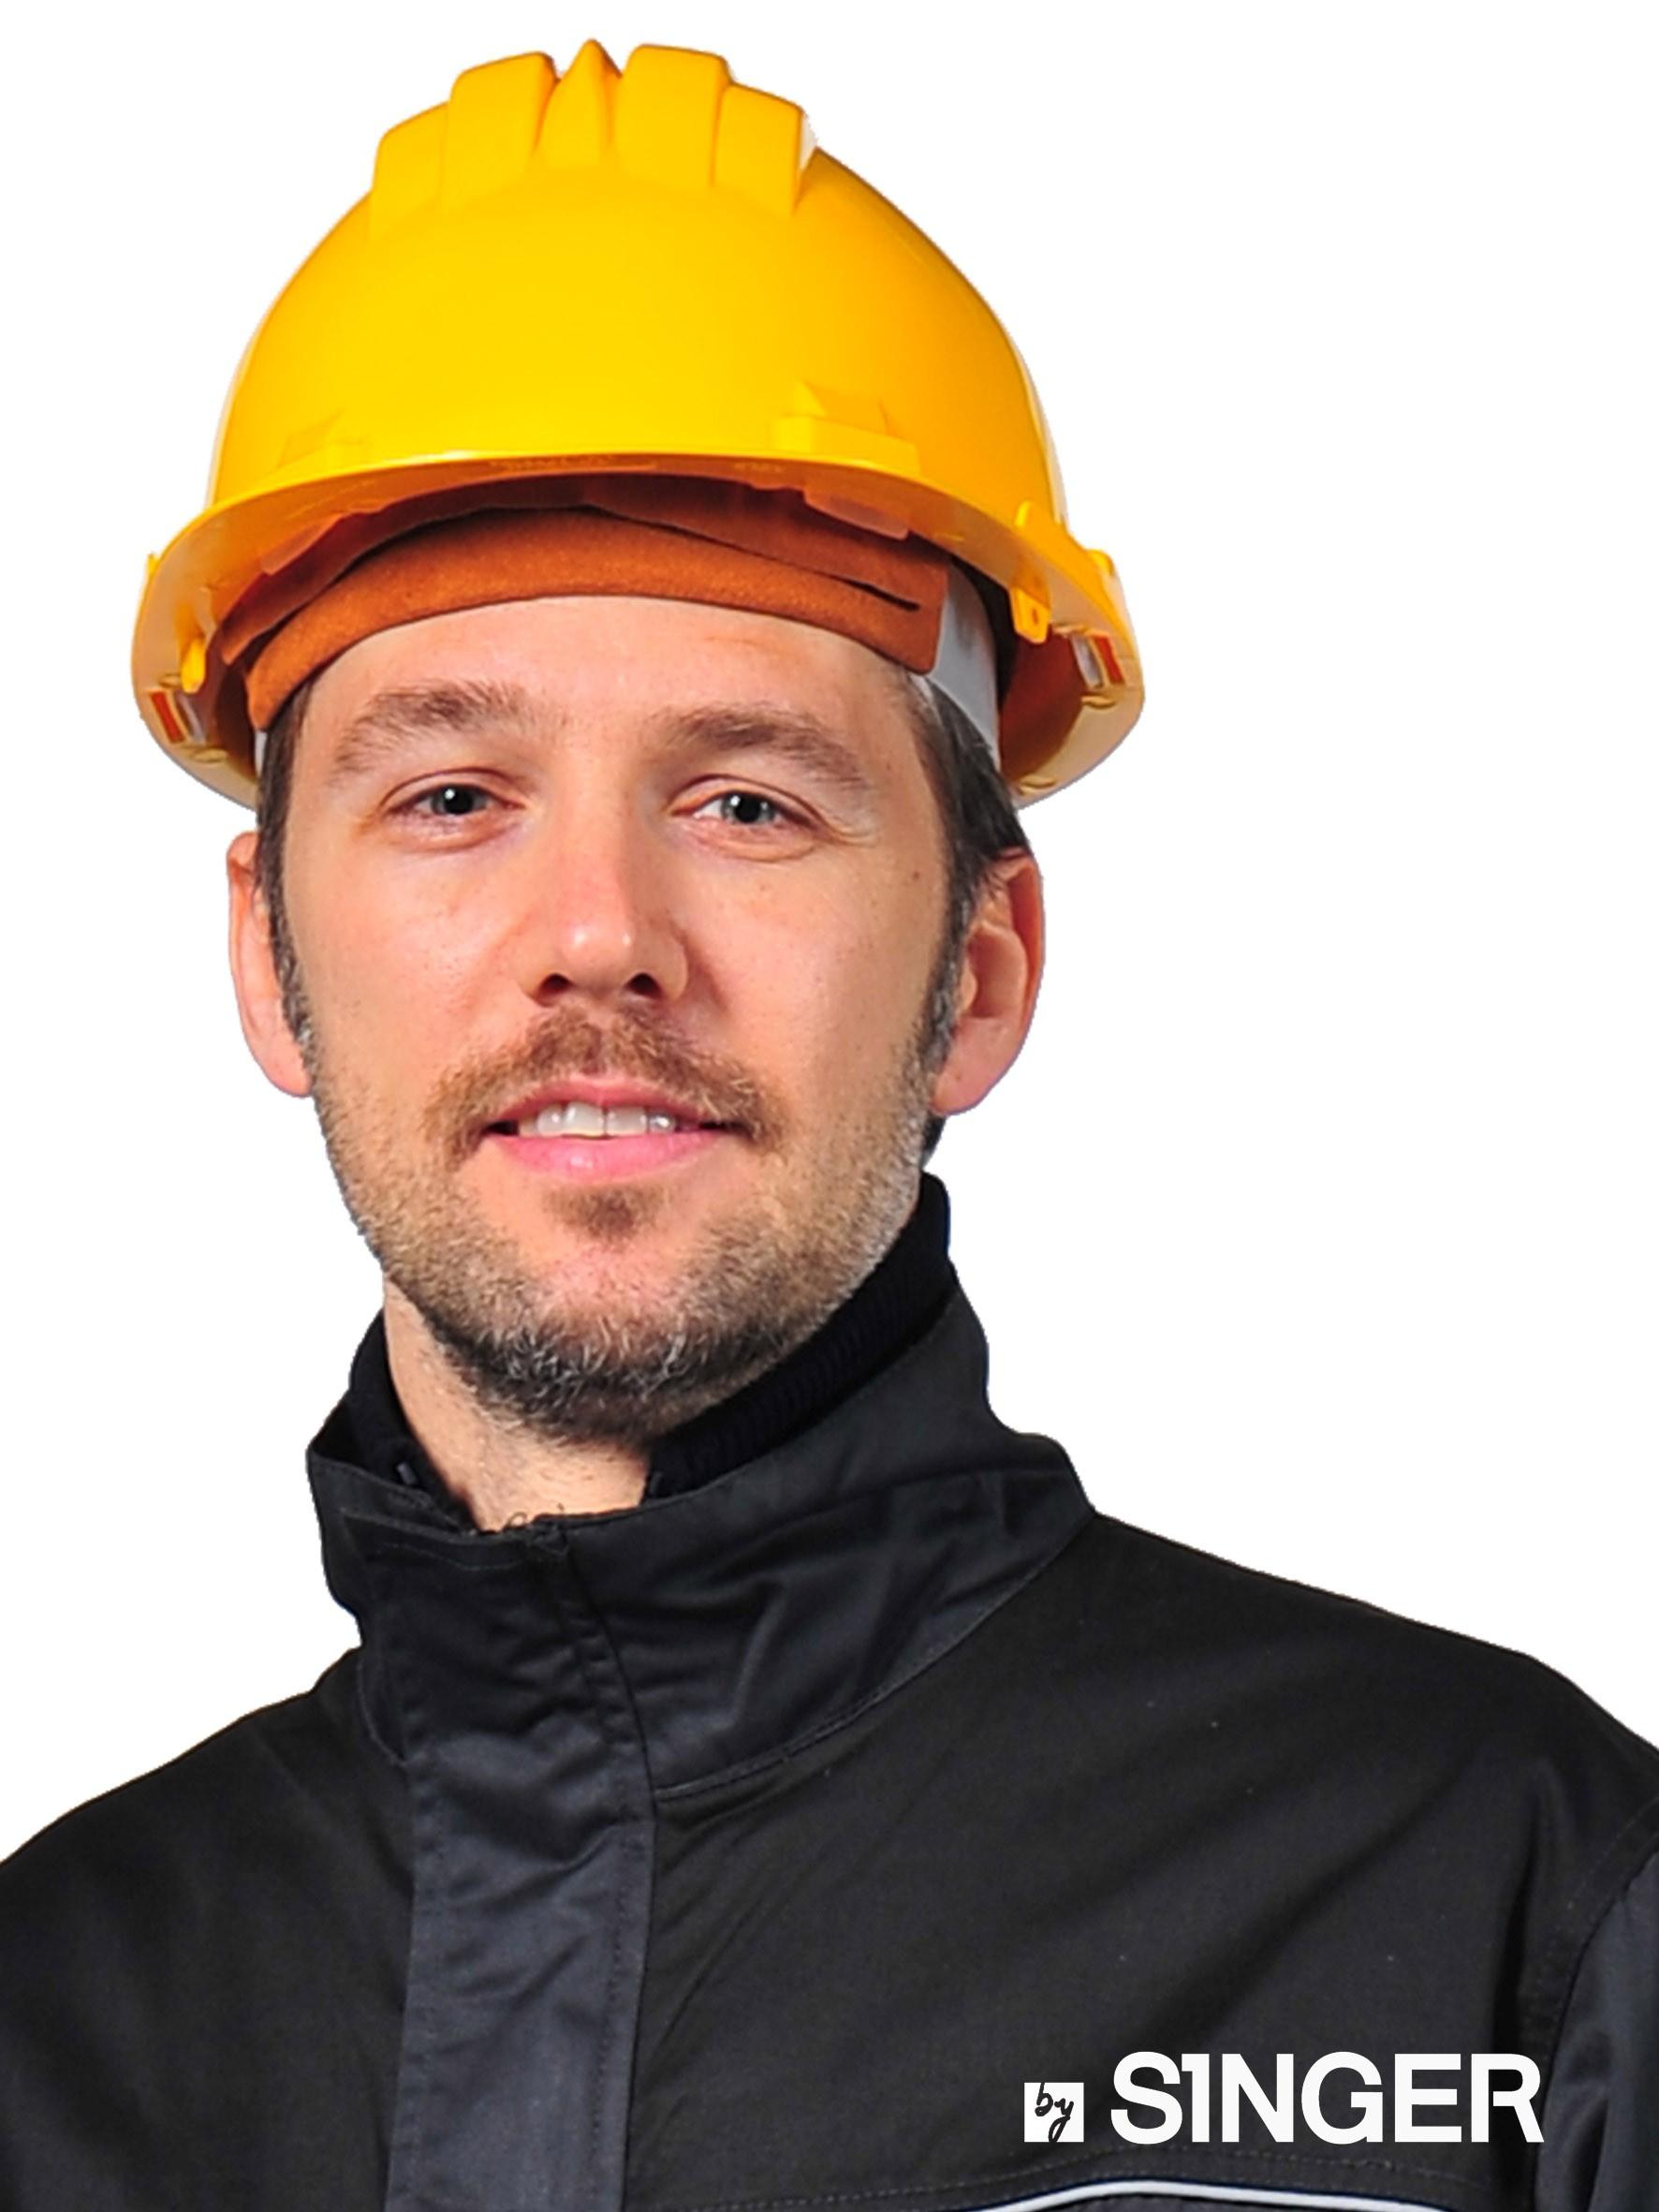helmet: (124, 44, 1140, 821)
